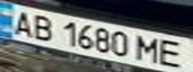0: (109, 29, 133, 58)
1: (54, 19, 81, 47)
6: (75, 21, 96, 52)
8: (90, 25, 112, 54)
A: (6, 7, 39, 38)
B: (27, 12, 57, 42)
E: (157, 38, 190, 70)
M: (133, 33, 163, 64)
